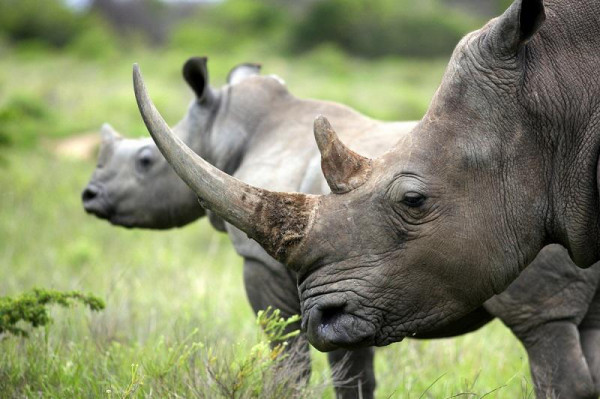Rhinoceros: (127, 1, 600, 355)
